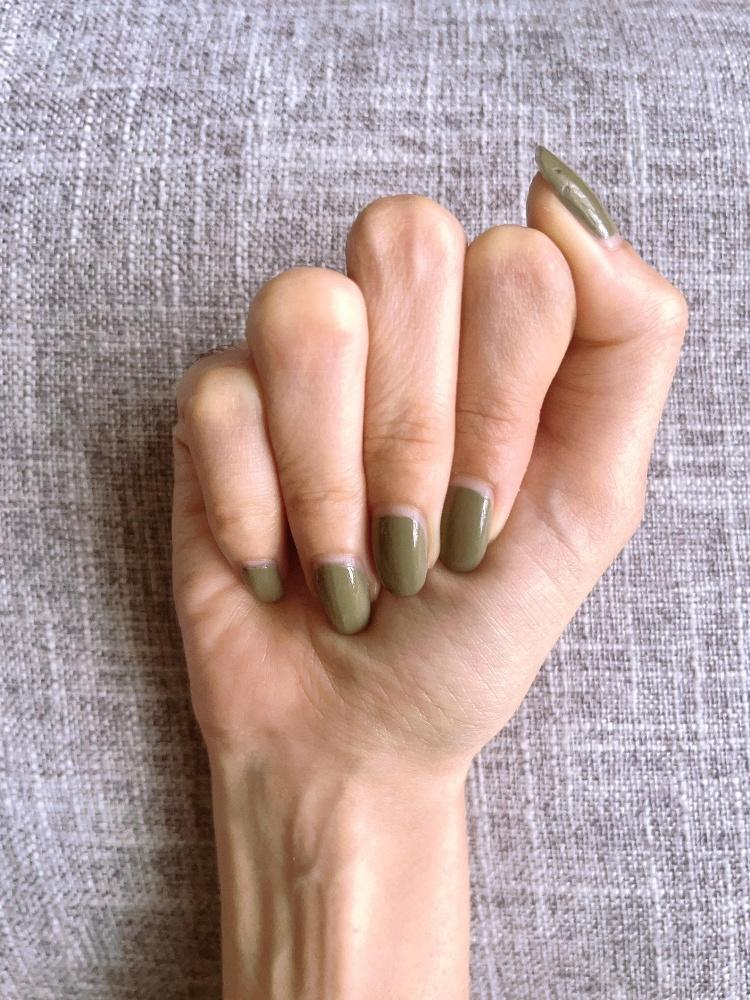a: (167, 140, 690, 746)
